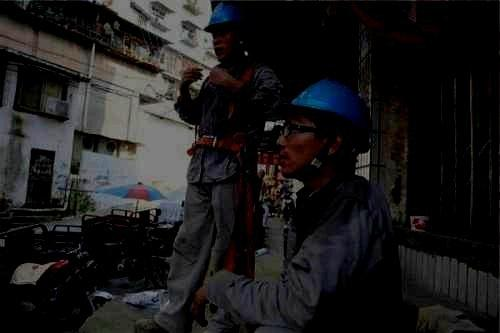helmet: (276, 78, 371, 179), (203, 3, 246, 61)
